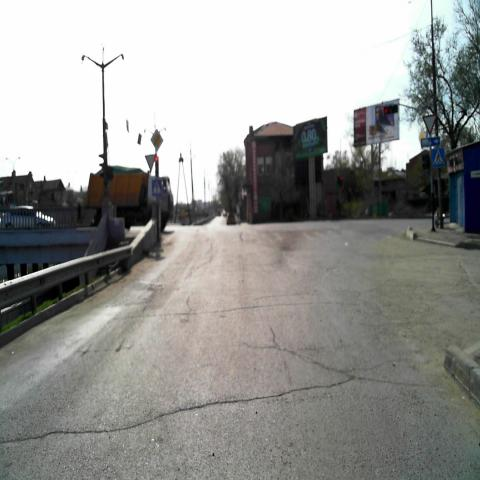2_4: (422, 113, 437, 135)
6_15_2: (420, 136, 442, 146)
